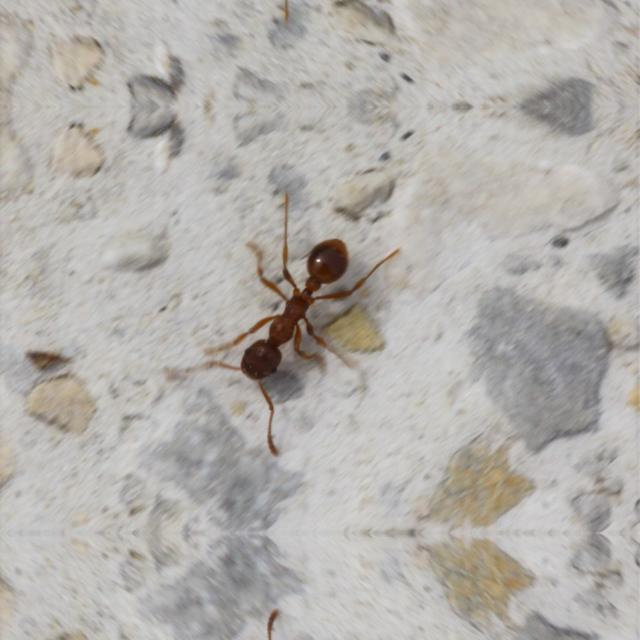Myrmica: (180, 215, 408, 409)
